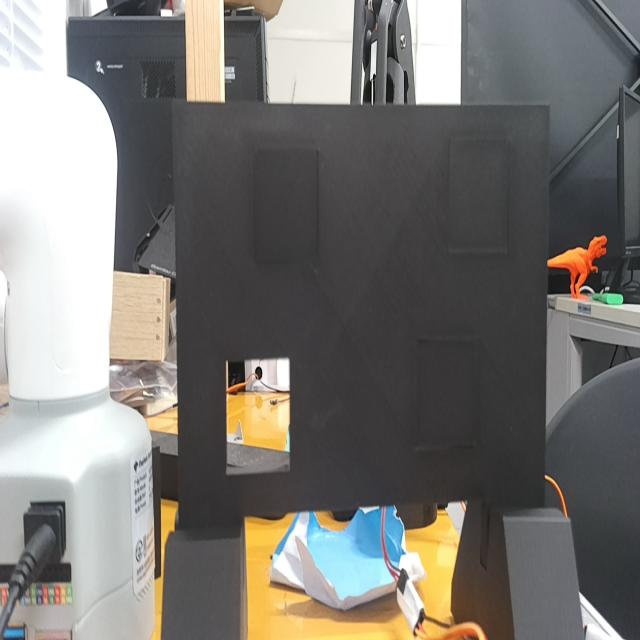Obstacle: (225, 357, 291, 481)
Wall: (175, 102, 548, 521)
